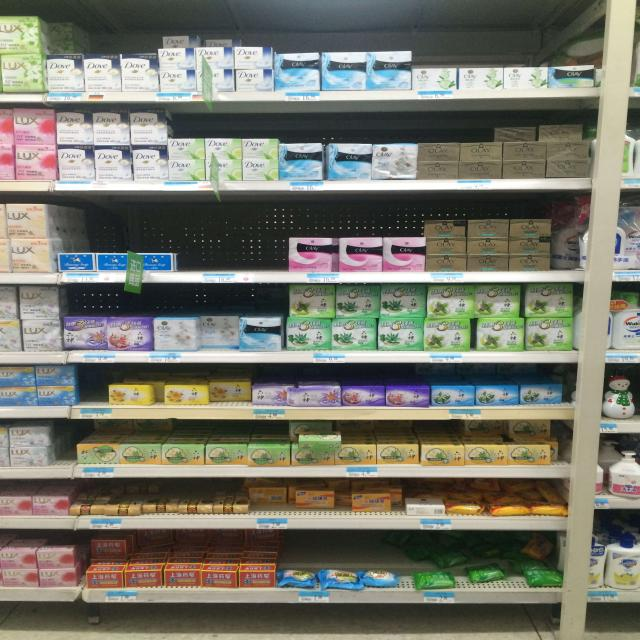unorganised: (410, 547, 560, 591), (285, 234, 339, 273), (324, 141, 374, 181), (289, 418, 347, 451), (521, 284, 576, 318), (464, 420, 552, 441), (473, 318, 527, 349), (349, 486, 403, 515), (109, 379, 154, 408), (201, 316, 239, 350), (288, 487, 335, 512), (445, 494, 487, 519), (90, 537, 133, 561), (211, 382, 252, 407), (538, 122, 583, 142), (491, 125, 537, 142), (248, 489, 287, 509), (405, 495, 444, 515), (161, 33, 198, 48), (205, 36, 240, 46)
